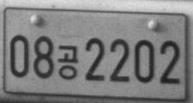0: (133, 38, 155, 84), (9, 34, 30, 78)
2: (159, 39, 181, 84), (108, 37, 130, 81), (84, 37, 105, 80)
8: (32, 34, 54, 79)
공: (57, 44, 79, 79)
